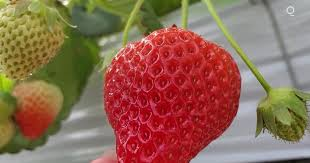ripe: (98, 23, 245, 162)
unripe: (2, 1, 74, 84), (9, 78, 67, 140), (258, 81, 308, 146)
